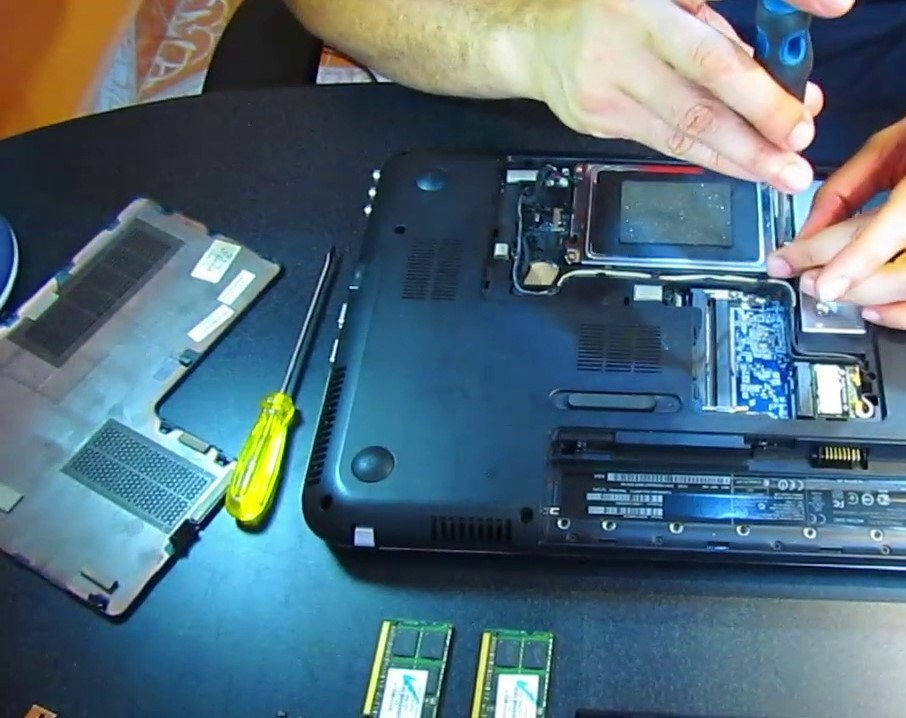screwdriver: (221, 241, 336, 528), (744, 1, 816, 248)
